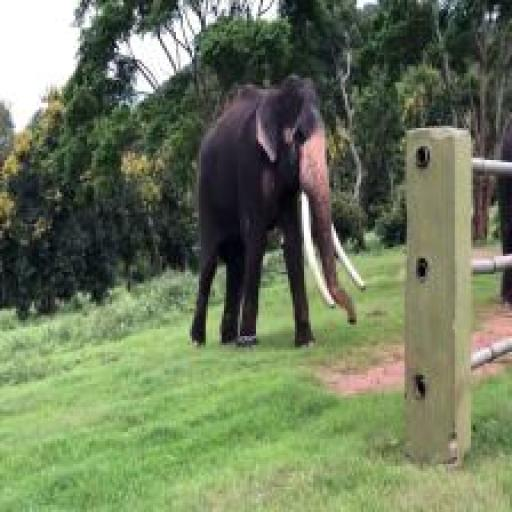Elephant: (187, 71, 367, 354)
